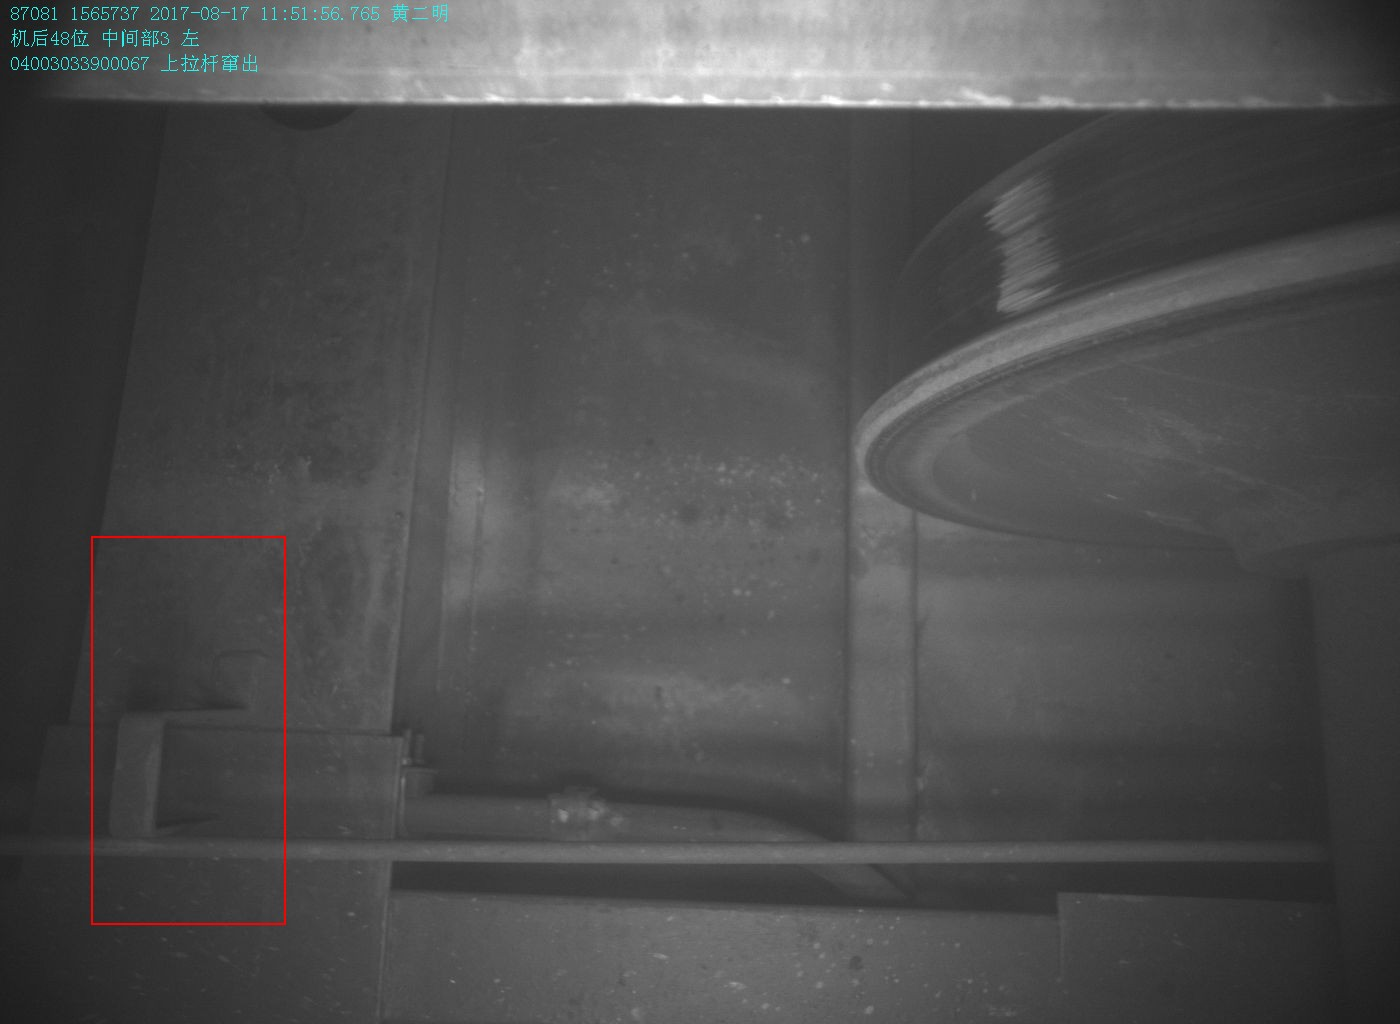Upper lever: (108, 653, 258, 863)
